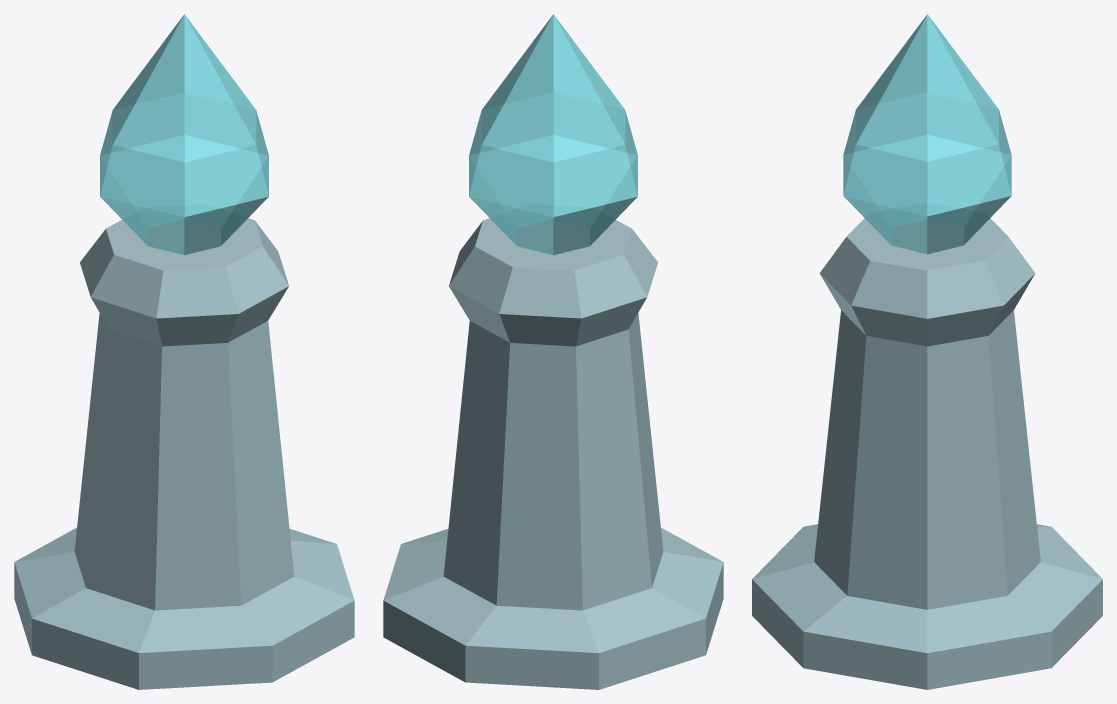
File: decor_6.fbx
3 renders of one model, left to right at view 1: azimuth 30°, elevation 25°; view 2: azimuth 150°, elevation 25°; view 3: azimuth 270°, elevation 25°, orthographic.
Parts seen in each view (by area): view 1: decor_6; view 2: decor_6; view 3: decor_6.
Boxes of the visible parts, bbox=[...] form: decor_6: bbox=[14, 14, 354, 689]; decor_6: bbox=[383, 14, 723, 689]; decor_6: bbox=[752, 14, 1102, 689].
Size of the model in its own units: 1.3 by 2.46 by 1.3.
